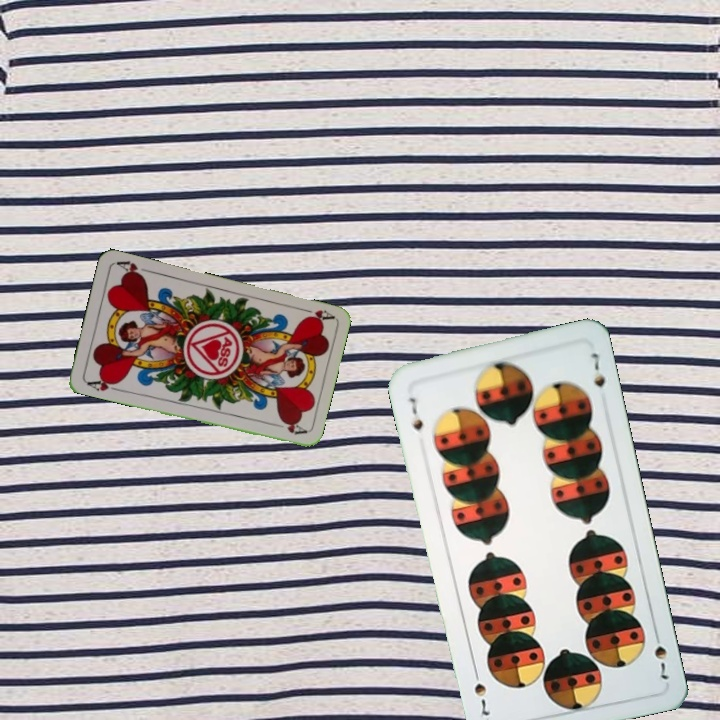HA: (295, 304, 336, 325), (83, 374, 123, 393)
S7: (650, 626, 671, 682), (405, 393, 426, 434)
